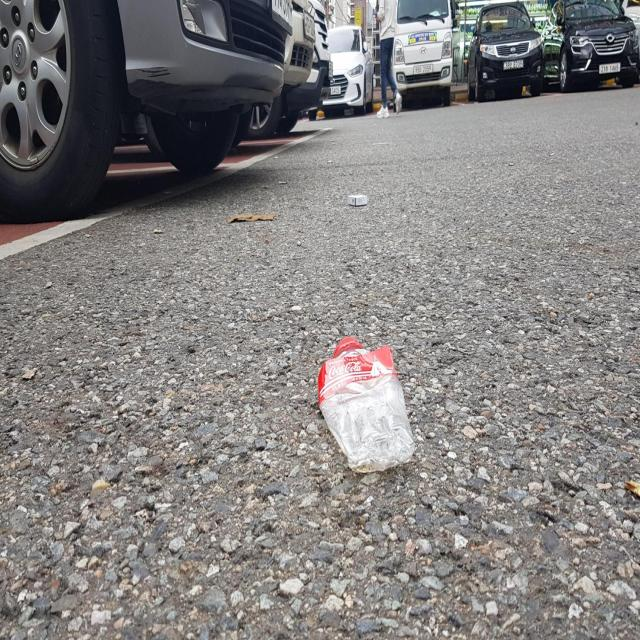plastic: (318, 336, 415, 473)
